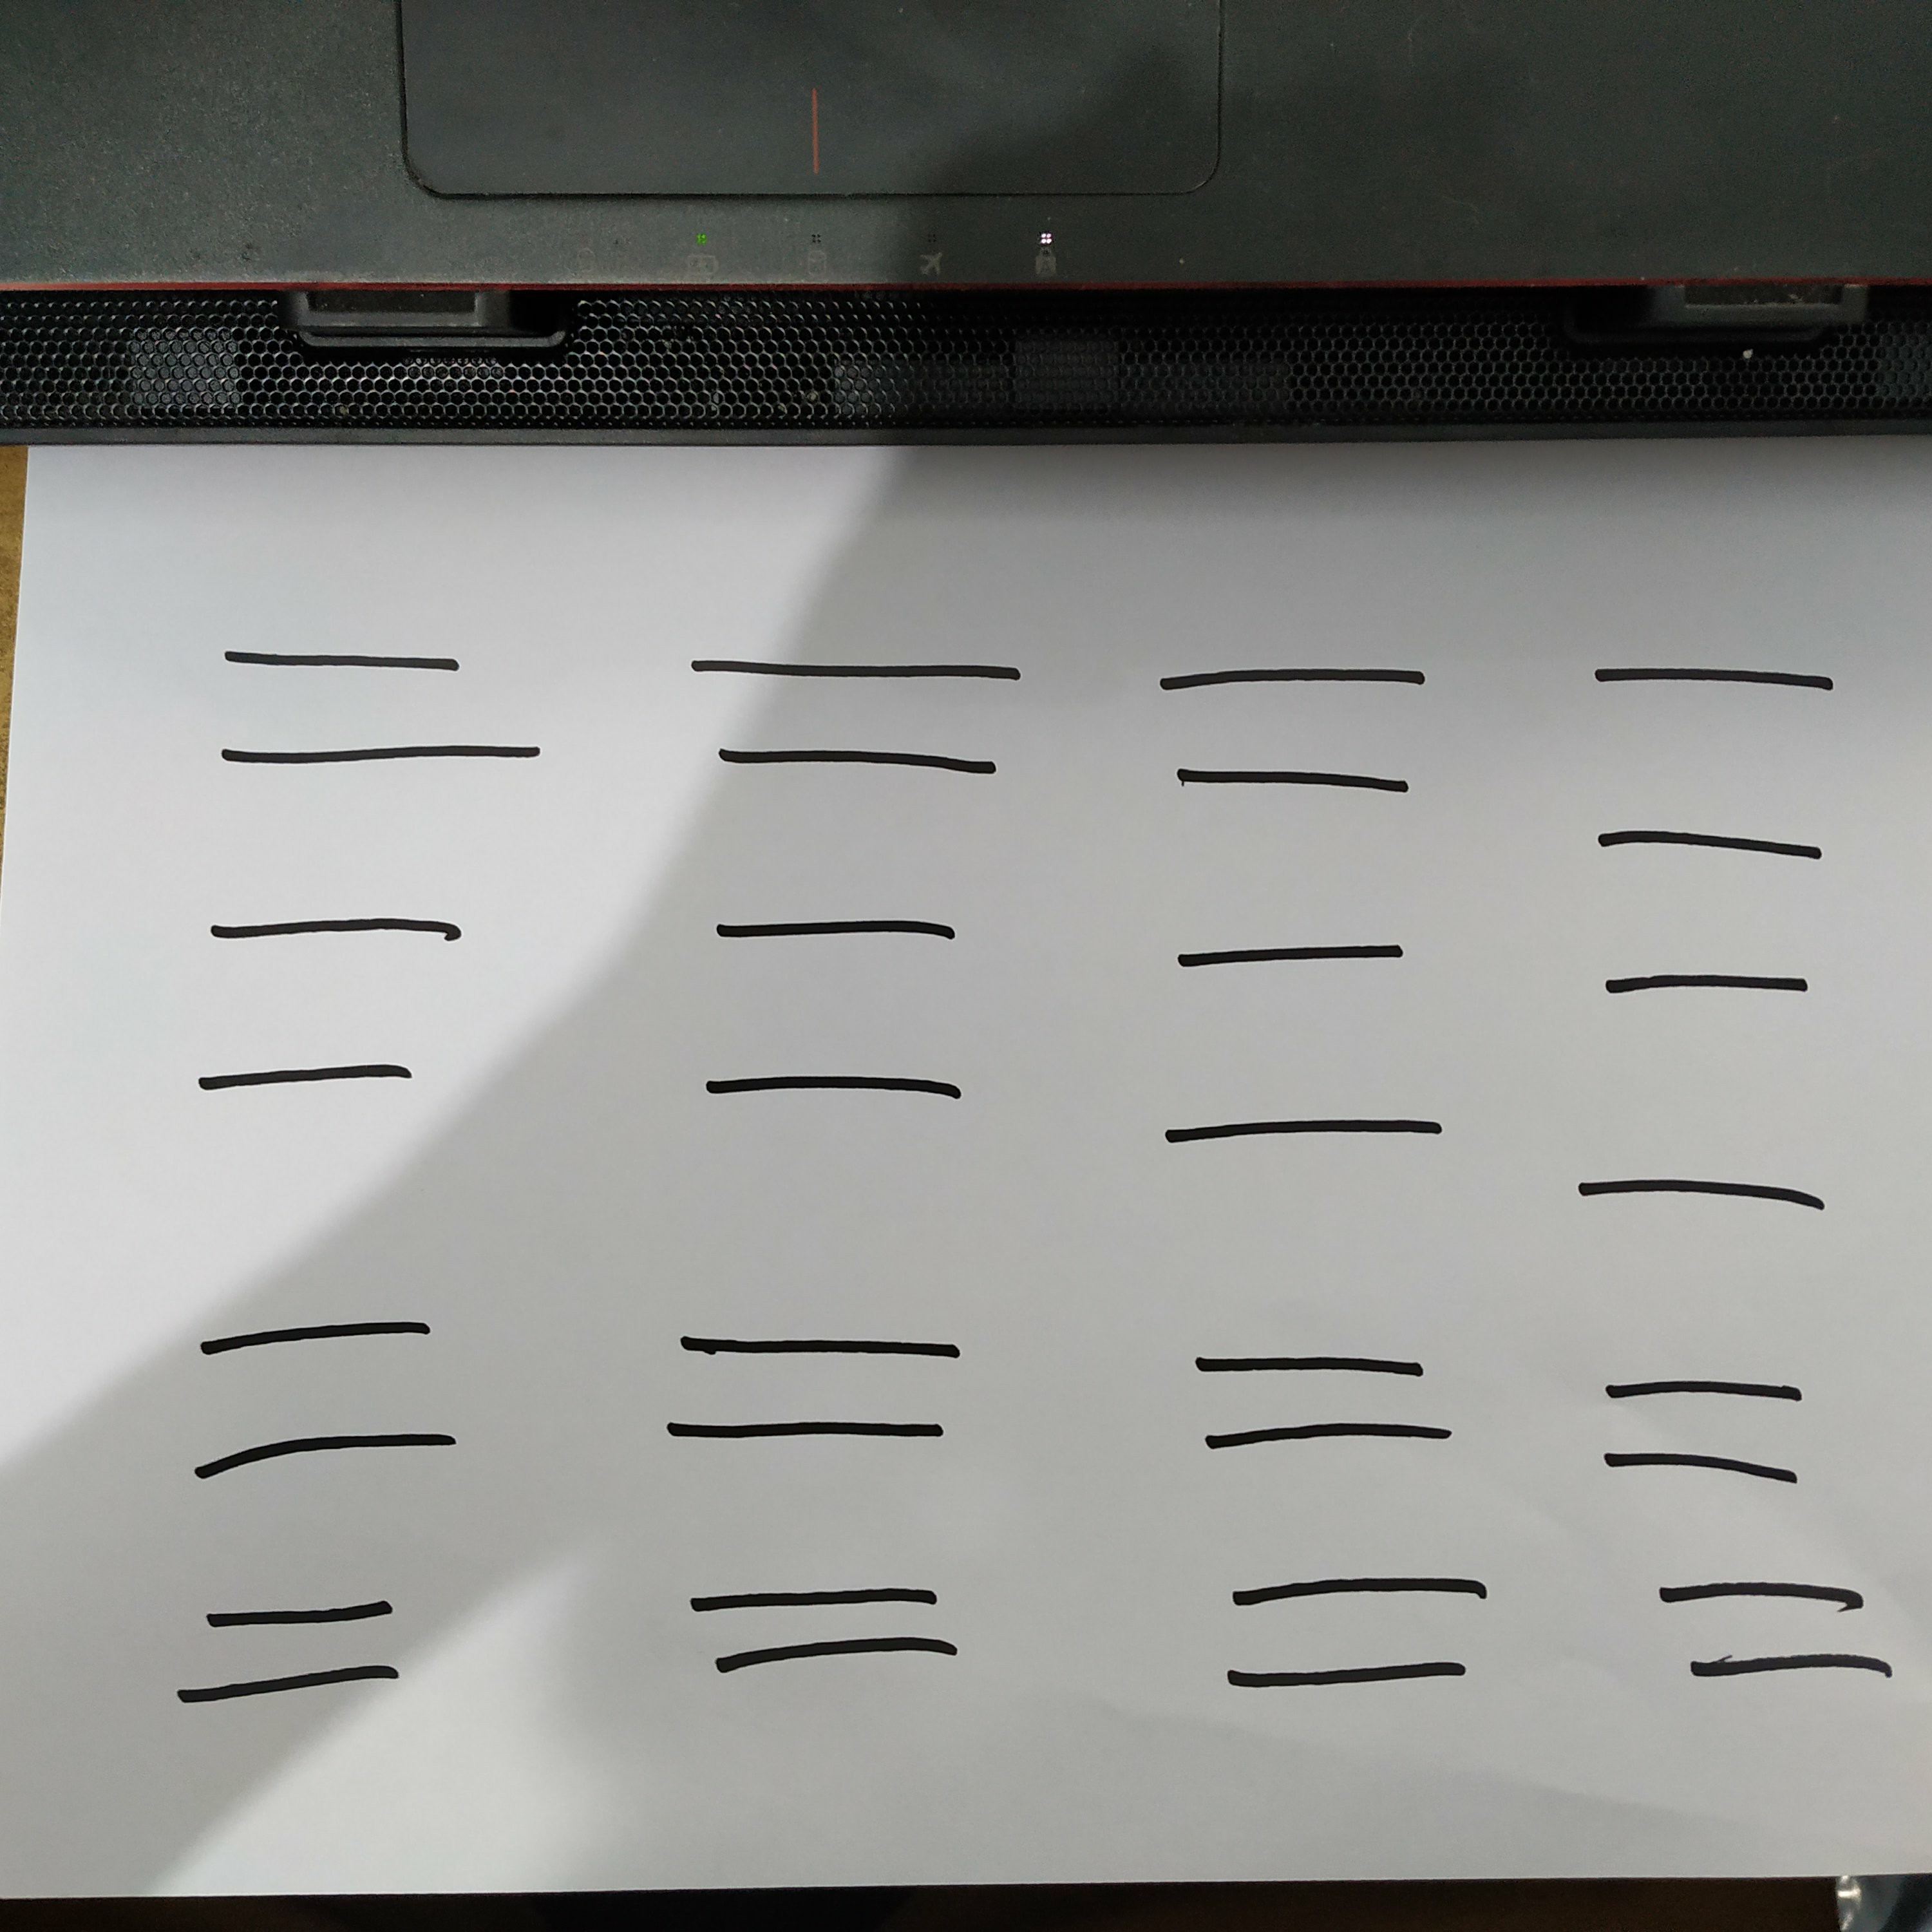equal: (1551, 952, 1865, 1240), (1137, 922, 1486, 1162), (164, 878, 482, 1117), (688, 897, 1012, 1126), (1555, 651, 1869, 882), (671, 624, 1059, 808), (196, 618, 589, 790), (1133, 638, 1479, 823), (140, 1311, 493, 1490), (1615, 1549, 1932, 1732), (1202, 1549, 1510, 1728), (645, 1303, 973, 1471), (1173, 1327, 1488, 1471), (649, 1560, 1007, 1685), (152, 1588, 437, 1728), (1580, 1356, 1826, 1516)
